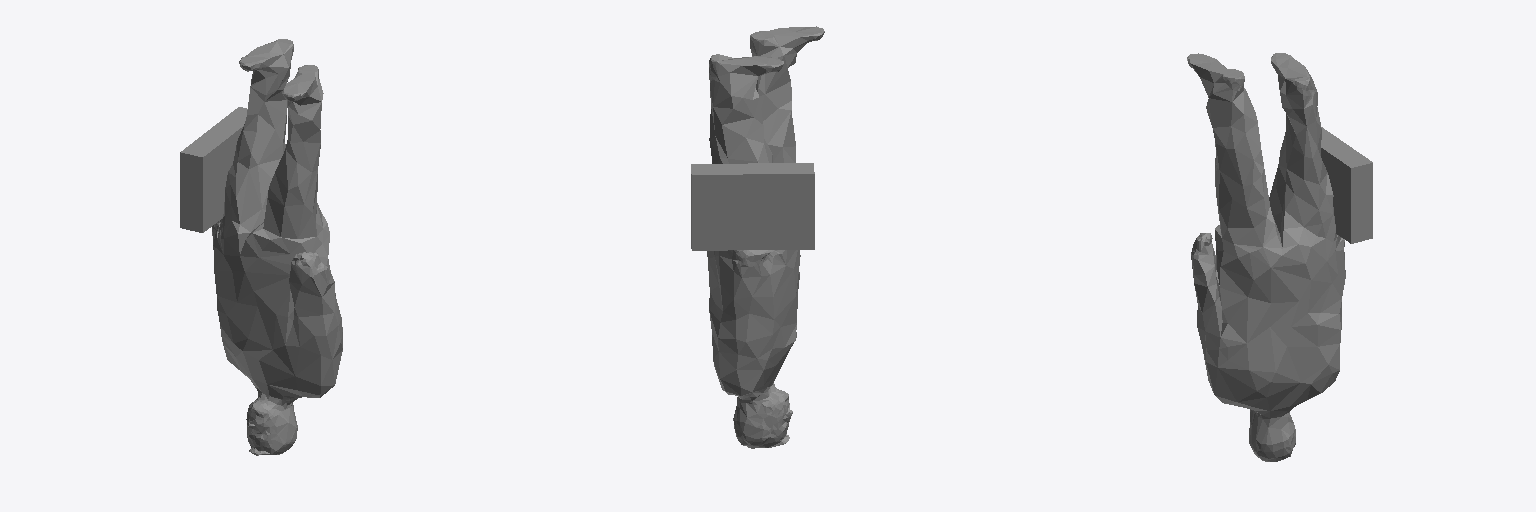
3 renders of one model, left to right at view 1: azimuth 30°, elevation 25°; view 2: azimuth 150°, elevation 25°; view 3: azimuth 270°, elevation 25°, orthographic.
Visible parts, largest first — view 1: pF12; view 2: pF12; view 3: pF12.
Boxes of the visible parts, x1,y1,x2,y2 form: pF12: [180, 39, 342, 455]; pF12: [691, 26, 824, 448]; pF12: [1187, 53, 1372, 461].
Bounding box in the file's own units: 54.54 × 168 × 72.17.